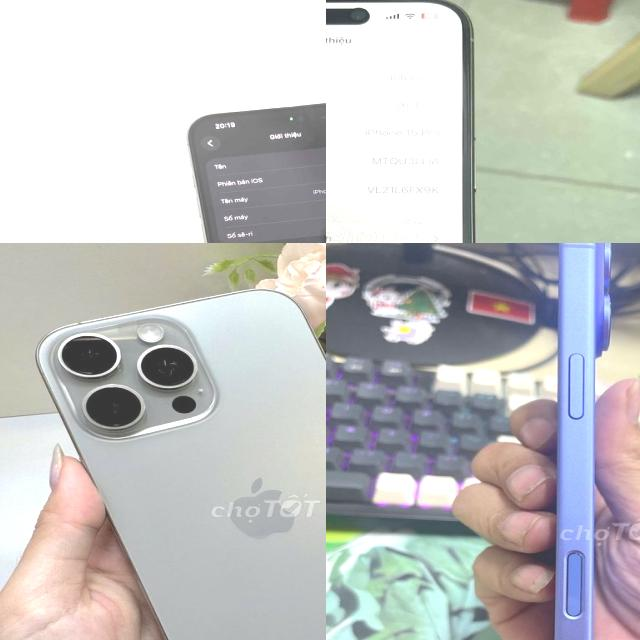gen_15: (326, 0, 498, 243)
gen_16: (38, 290, 326, 640), (184, 96, 326, 243)
